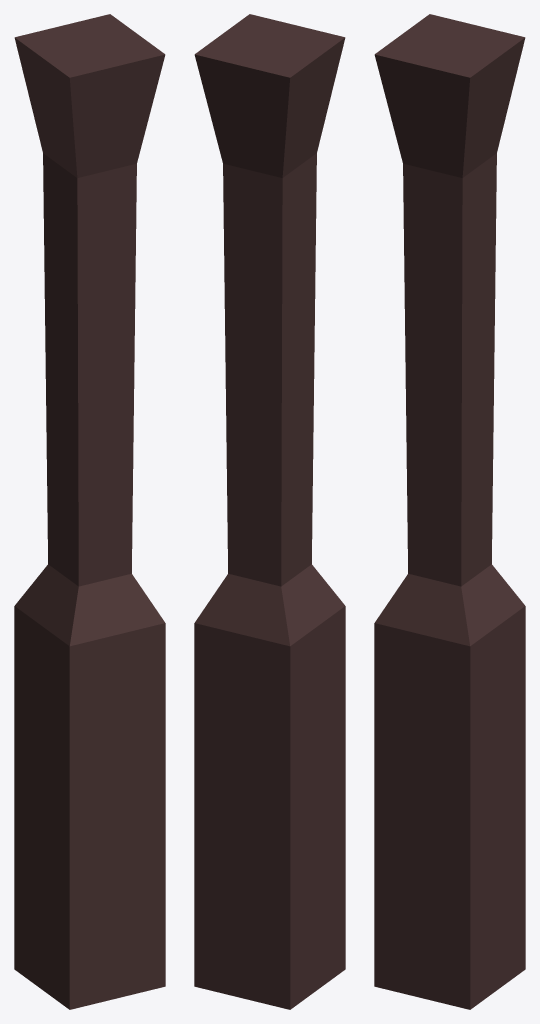
File: DarkRoseWoodColumnSmallPorch1.fbx
The picture shows the model from 3 angles, left to right: view 1: azimuth 30°, elevation 25°; view 2: azimuth 150°, elevation 25°; view 3: azimuth 330°, elevation 25°; orthographic projection.
Visible parts, largest first — view 1: DarkRoseWoodColumnSmallPorch1; view 2: DarkRoseWoodColumnSmallPorch1; view 3: DarkRoseWoodColumnSmallPorch1.
Part boxes in pixels (left/top/right/bottom): DarkRoseWoodColumnSmallPorch1: left=14, top=14, right=165, bottom=1009; DarkRoseWoodColumnSmallPorch1: left=194, top=14, right=345, bottom=1009; DarkRoseWoodColumnSmallPorch1: left=374, top=14, right=525, bottom=1009.
Bounding box in the file's own units: 77 × 716 × 77.
